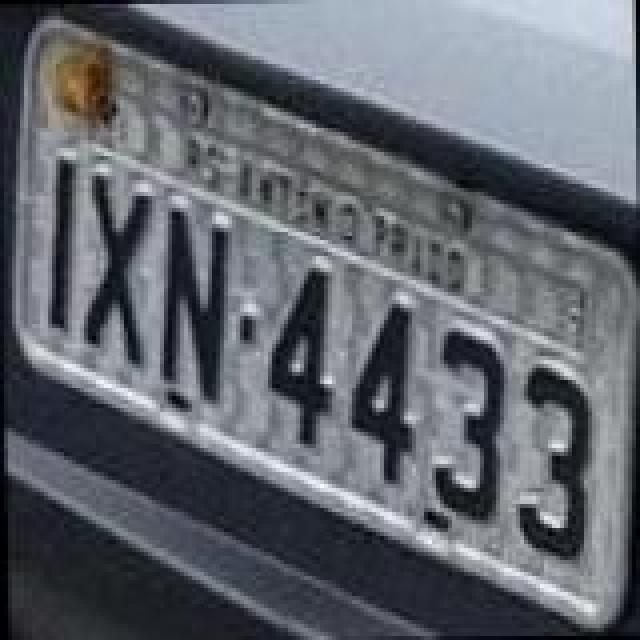1: (42, 154, 86, 326)
3: (506, 358, 590, 562), (426, 324, 510, 520)
4: (260, 264, 336, 448), (346, 298, 422, 482)
N: (156, 200, 232, 404)
X: (84, 170, 160, 366)
